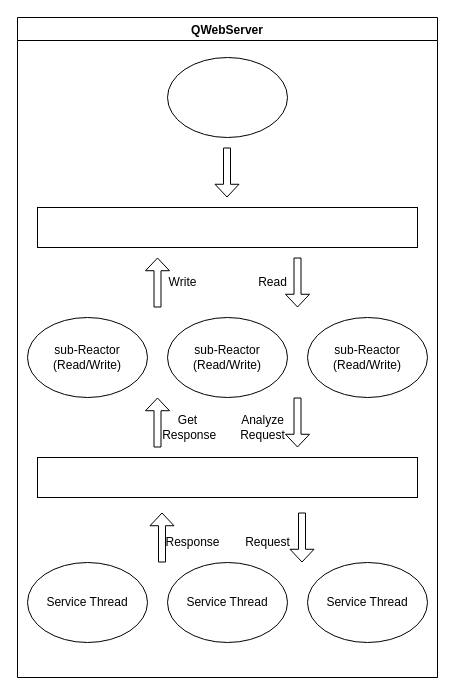
Some shapes in this 455 by 695 pixel diagram are drawn without their labels. The centre of each missing label's shape, as x and y in pixels:
"Client's Socket" goes at [227,227].
"HTTP Connection" goes at [227,477].
"main-Reactor (Acceptor)" goes at [227,97].
